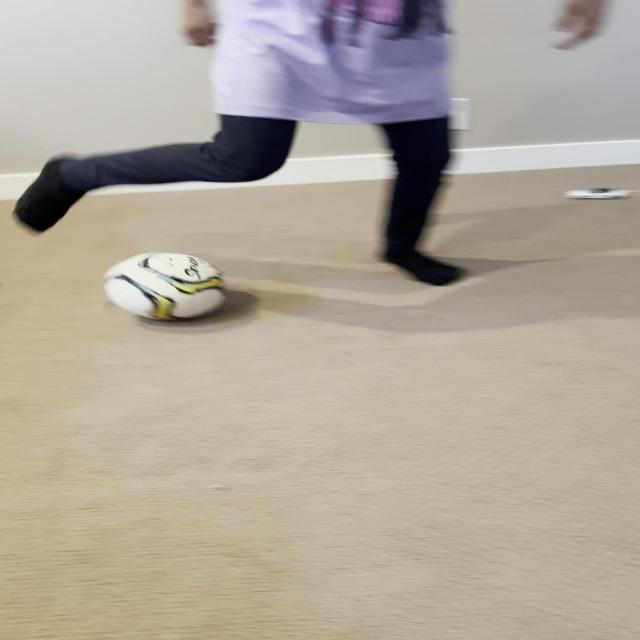Soccer Ball: (102, 251, 226, 322)
